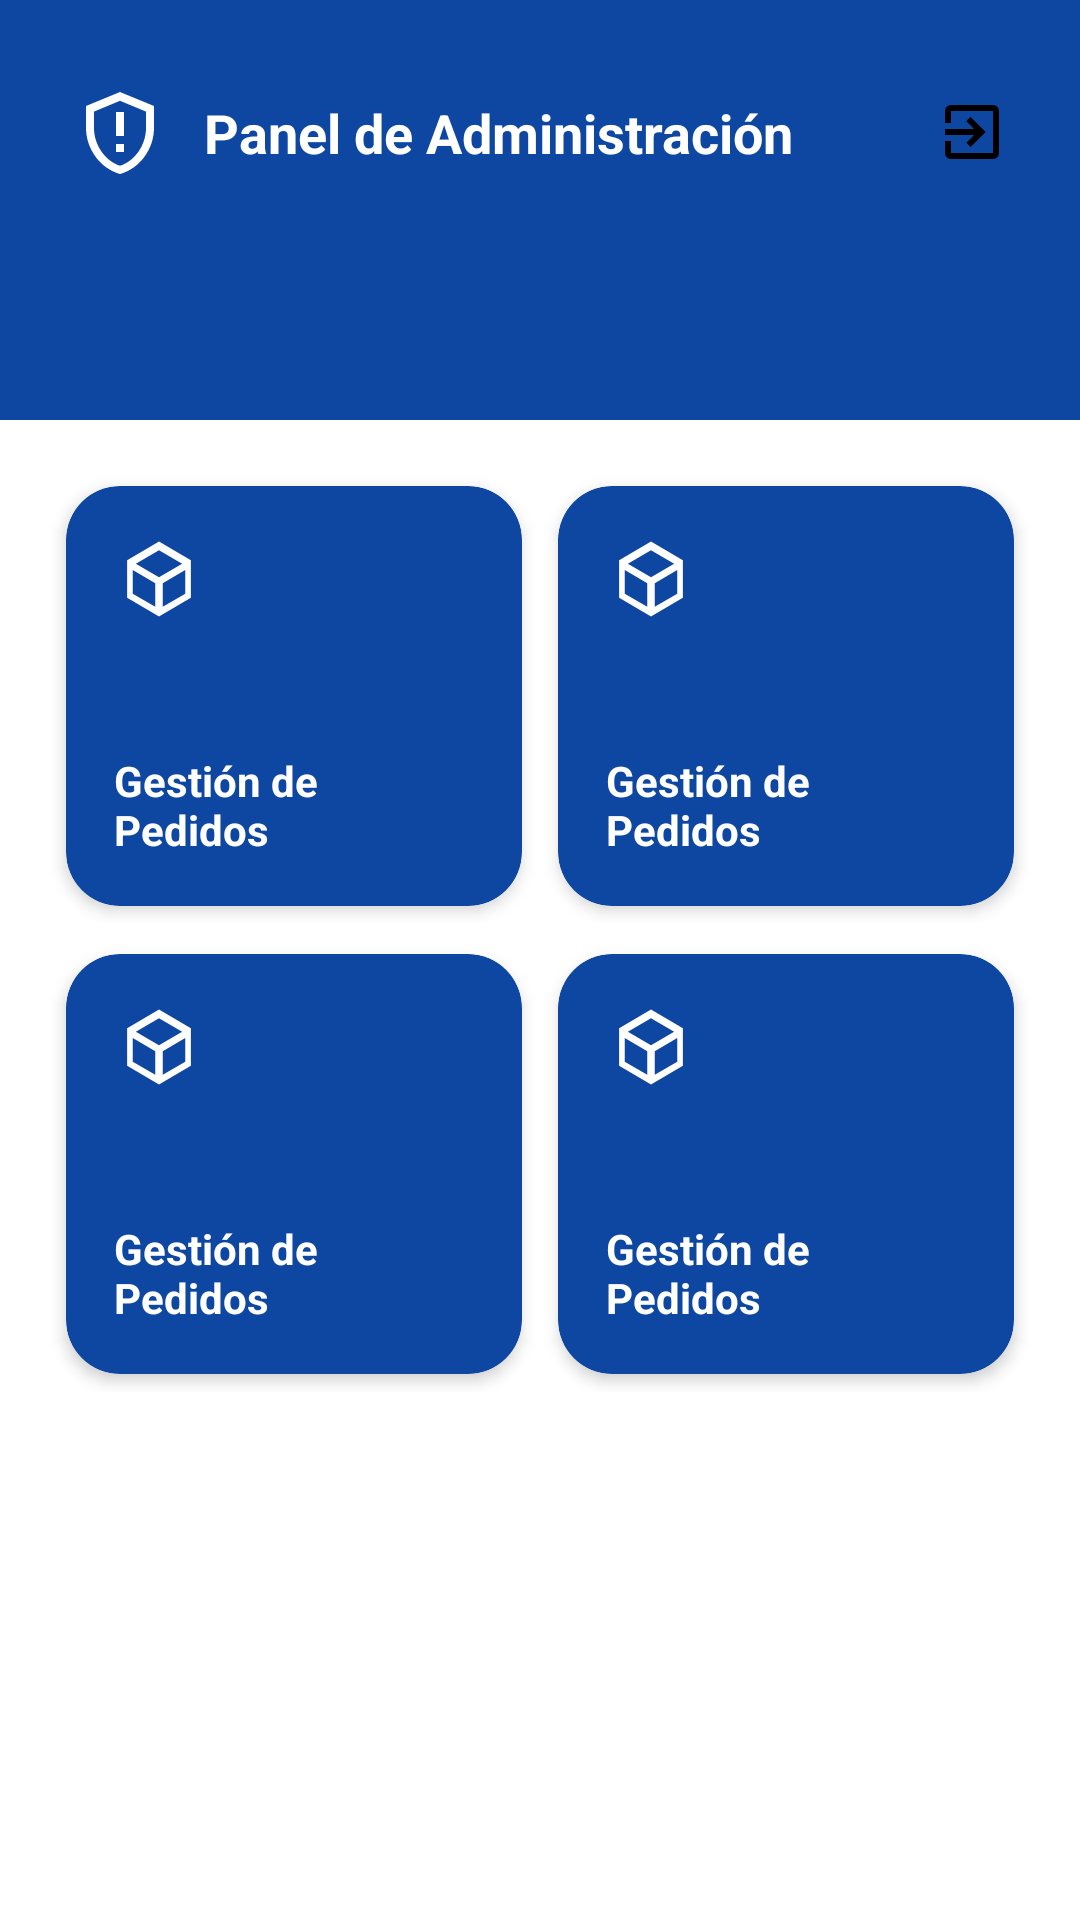

Locate icon controls on the screen. Image size 1080px x 1920px, boxes as (x1, y1, x2, y2).
admin shield: (86, 92, 154, 174)
signout arrow: (945, 105, 999, 159)
